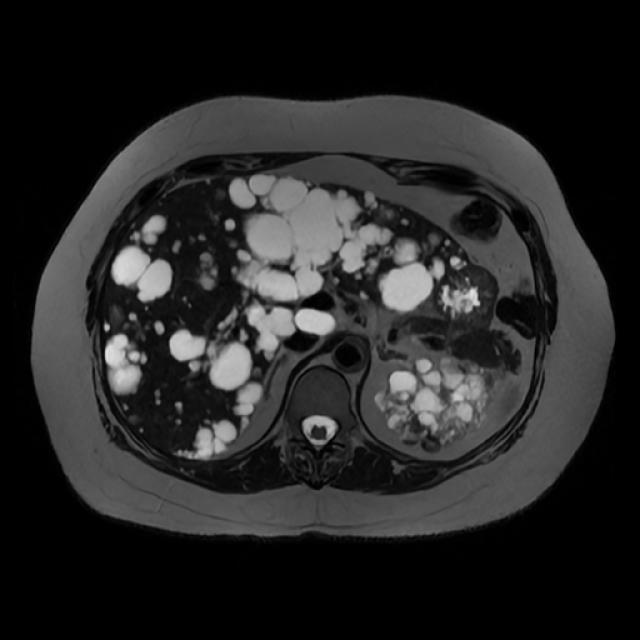sol: (373, 353, 506, 454)
